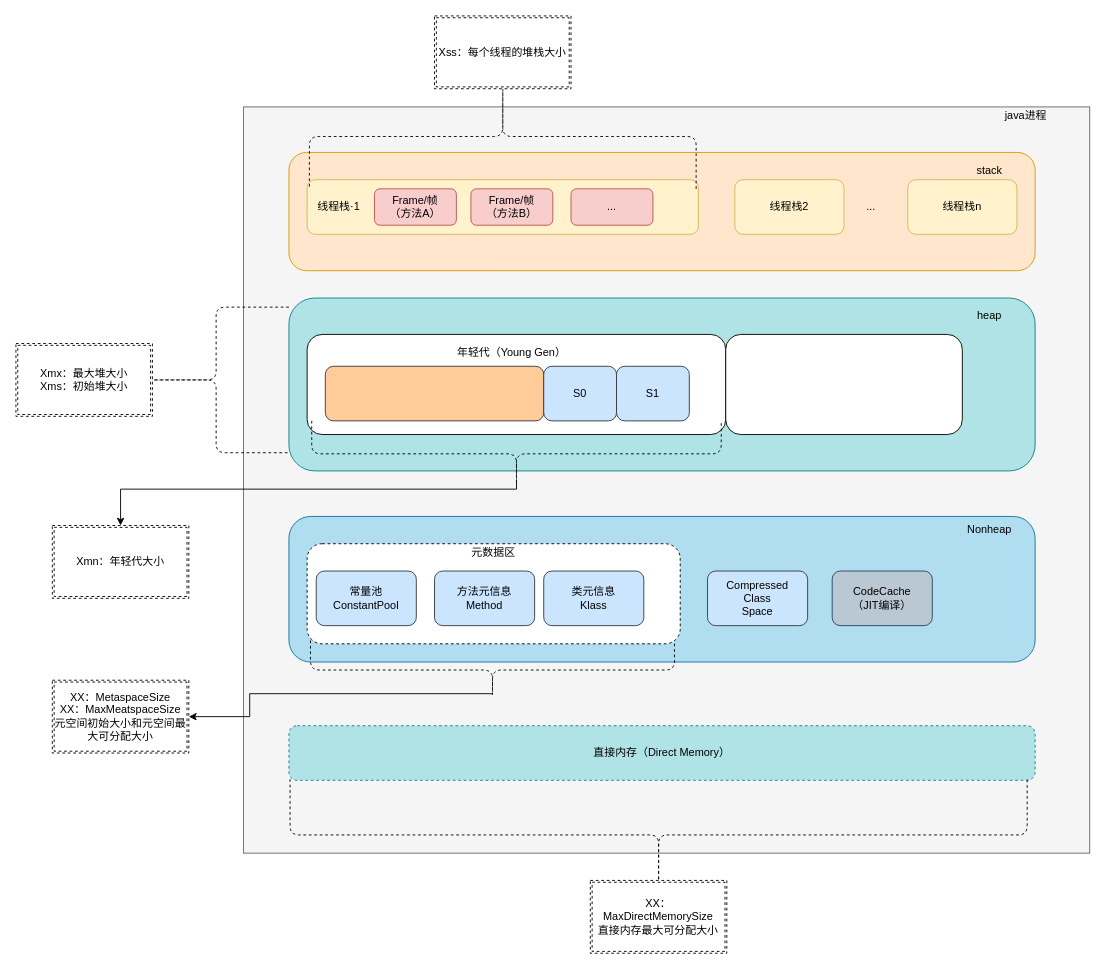
Image size: 1106x969. Some labels were removed from this diagram. Here are the shapes that lost their labels. From the top down, the centre of each, then its label:
At (x=434, y=393): "新生代（Eden-Space）".
At (x=843, y=384): "老年代 old-gen".
